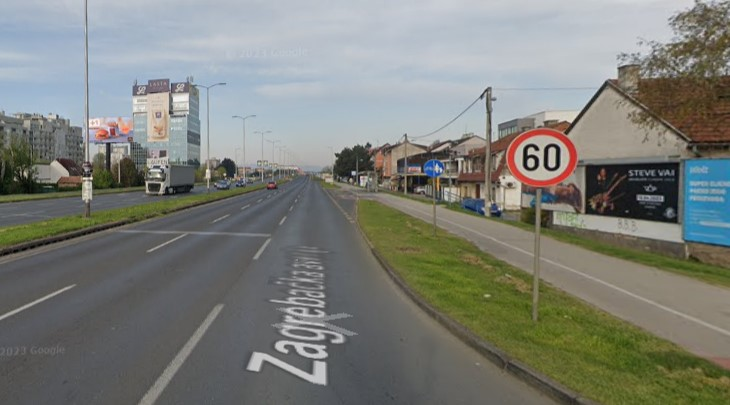Ograničenje brzine 60: (506, 128, 578, 188)
